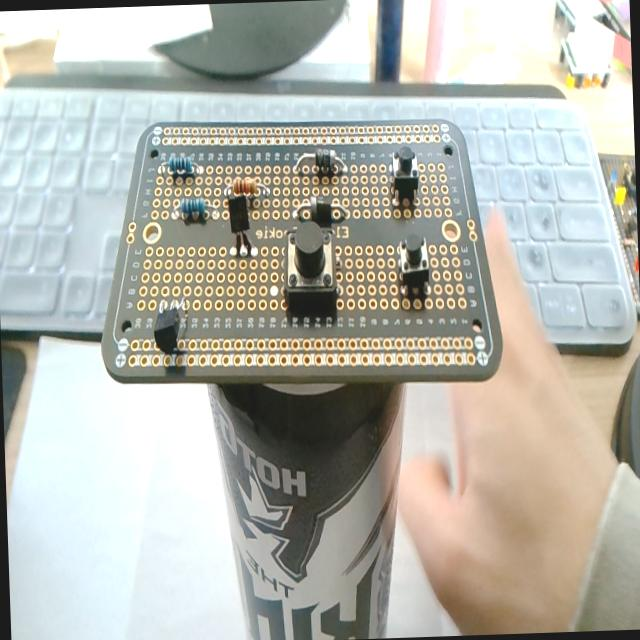diode: (292, 195, 349, 226), (294, 146, 348, 178)
resistor: (167, 153, 195, 180), (179, 195, 205, 222), (233, 175, 257, 196)
switch: (282, 217, 338, 315), (396, 232, 430, 306), (388, 145, 421, 208)
transistor: (152, 296, 189, 356), (226, 187, 255, 259)
